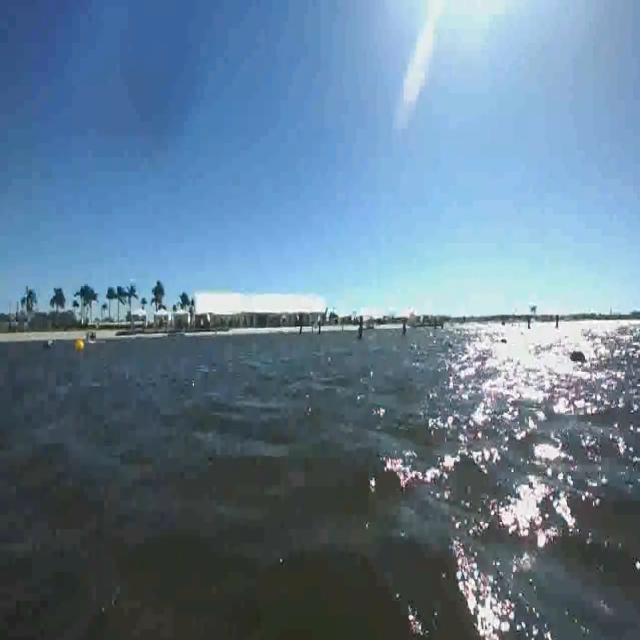yellow-buoy: (75, 338, 85, 354)
